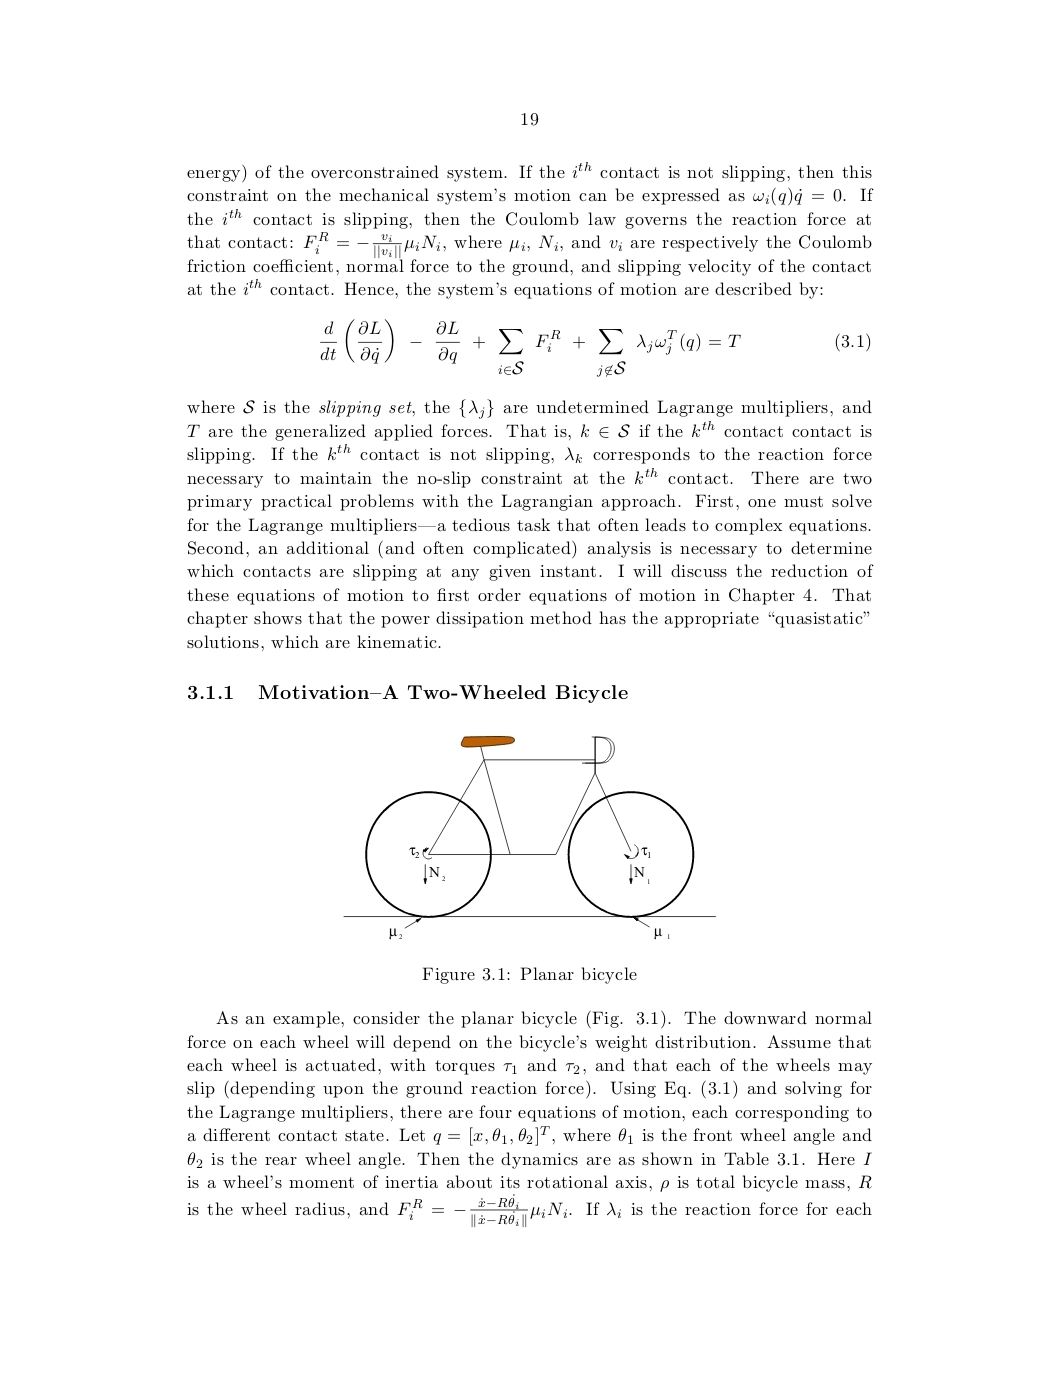figure: (343, 736, 716, 939)
formula: (320, 318, 870, 377)
